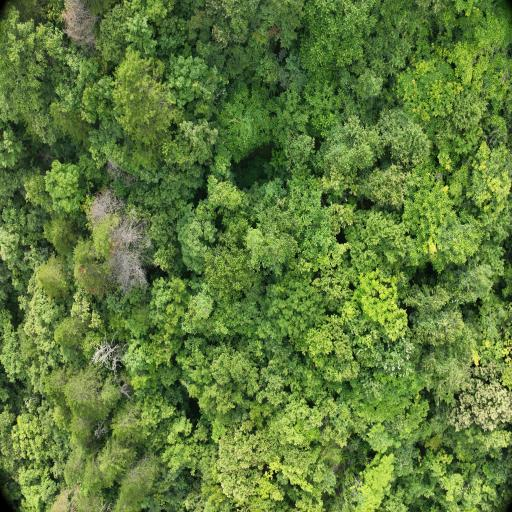dead-tree: (114, 234, 142, 286), (61, 2, 86, 44), (96, 350, 118, 361), (93, 201, 105, 219)
